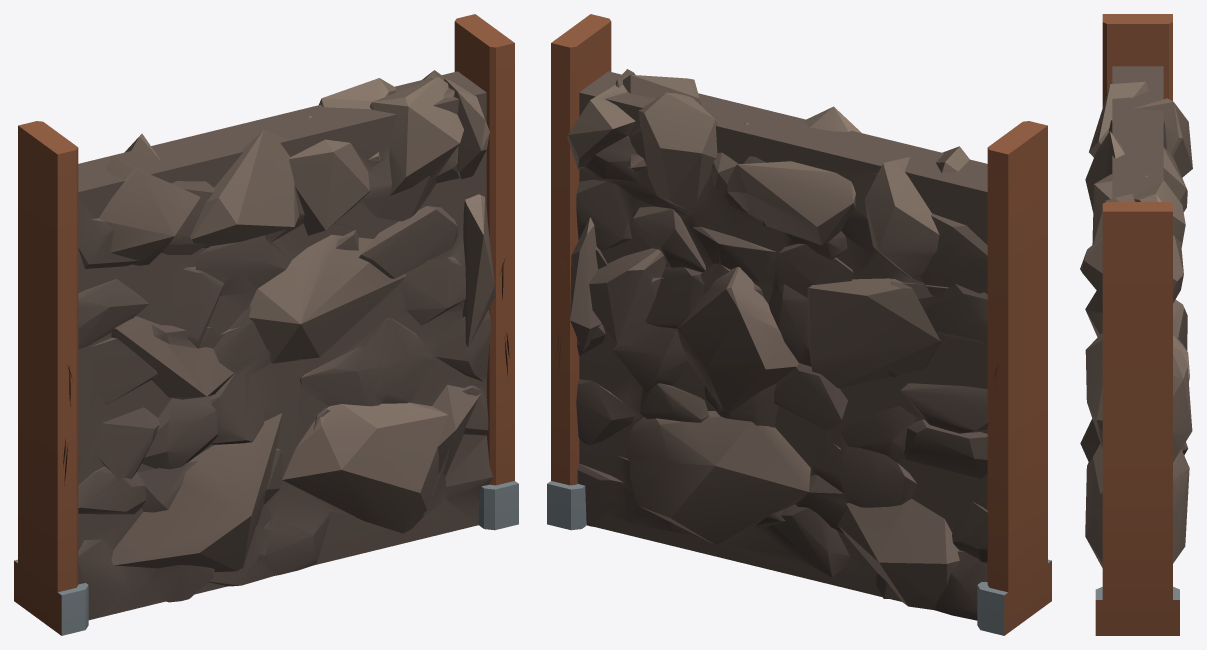
Rendered from wall_cave_B.glb.
The picture shows the model from 3 angles, left to right: view 1: azimuth 30°, elevation 25°; view 2: azimuth 150°, elevation 25°; view 3: azimuth 270°, elevation 25°; orthographic projection. The views are drawn at different scales.
Parts seen in each view (by area): view 1: Item; view 2: Item; view 3: Item.
Boxes of the visible parts, box(x1,y1,x2,y2) form: Item: box(14, 14, 518, 635); Item: box(547, 14, 1051, 635); Item: box(1080, 14, 1192, 635).
Bounding box in the file's own units: 4 × 4 × 0.965.
1 material, 1 textured.
